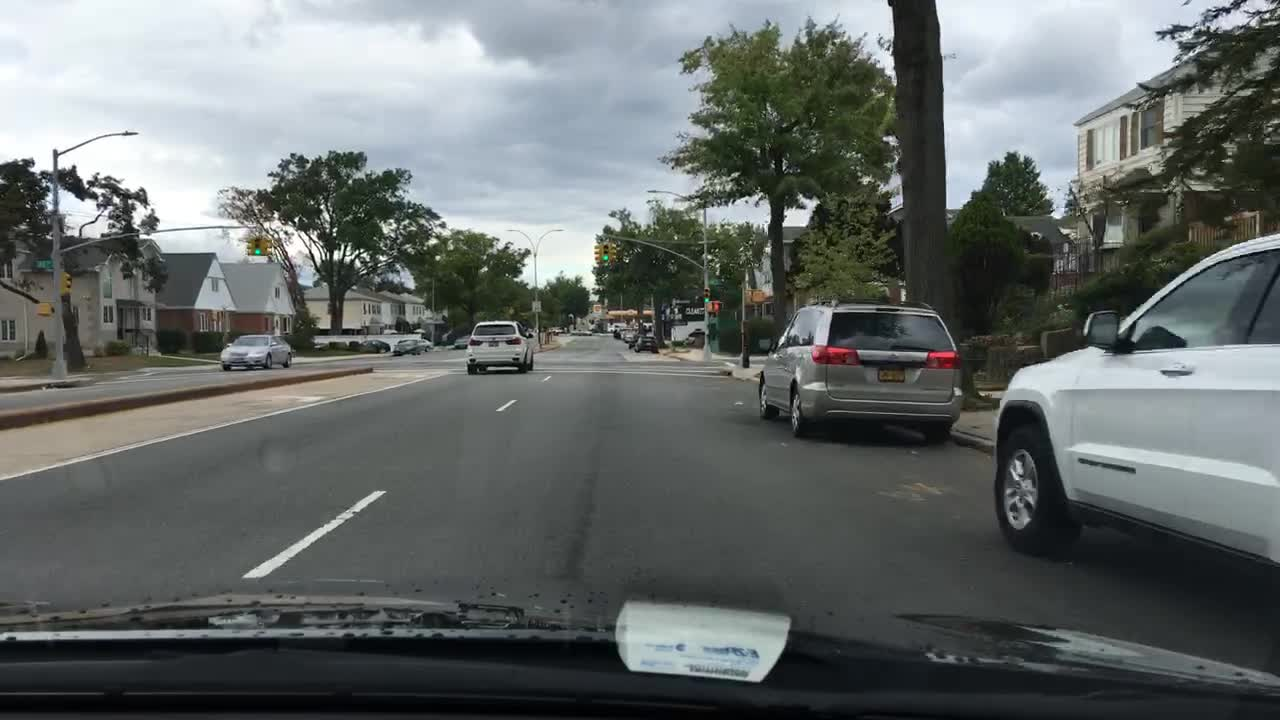car: (987, 233, 1279, 611), (756, 291, 967, 447), (464, 318, 534, 375), (220, 333, 291, 370), (395, 336, 431, 355), (634, 333, 659, 354), (361, 339, 391, 354), (452, 334, 471, 349), (524, 325, 544, 339), (626, 329, 641, 346), (546, 324, 566, 335), (611, 327, 623, 338)
traffic light: (592, 242, 604, 264), (60, 274, 72, 292), (610, 242, 620, 262), (707, 300, 723, 312), (251, 237, 262, 254), (265, 233, 273, 255), (602, 243, 610, 264), (244, 236, 251, 255), (702, 287, 709, 301)
traffic sign: (36, 302, 52, 314), (36, 261, 51, 270), (531, 299, 541, 311)
